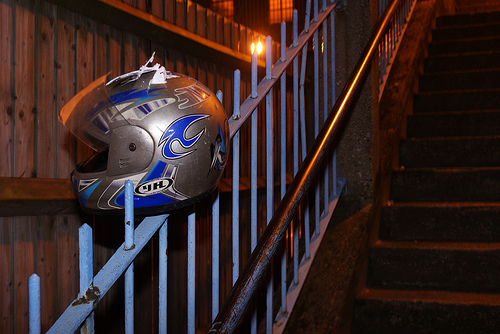helmet: (54, 76, 235, 210)
